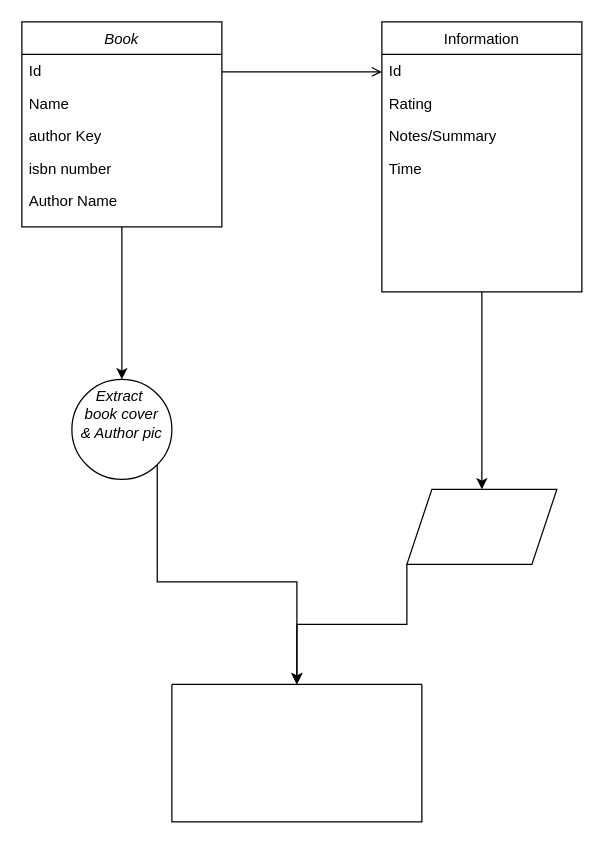
Image size: 604x844. Some labels were removed from this diagram. The centre of each missing label's shape, as x and y in pixels:
Given by user and shown with pictures together.: point 481,526
Have delete button Have edit notes and rating option Sort by rating & recency: point 296,752
